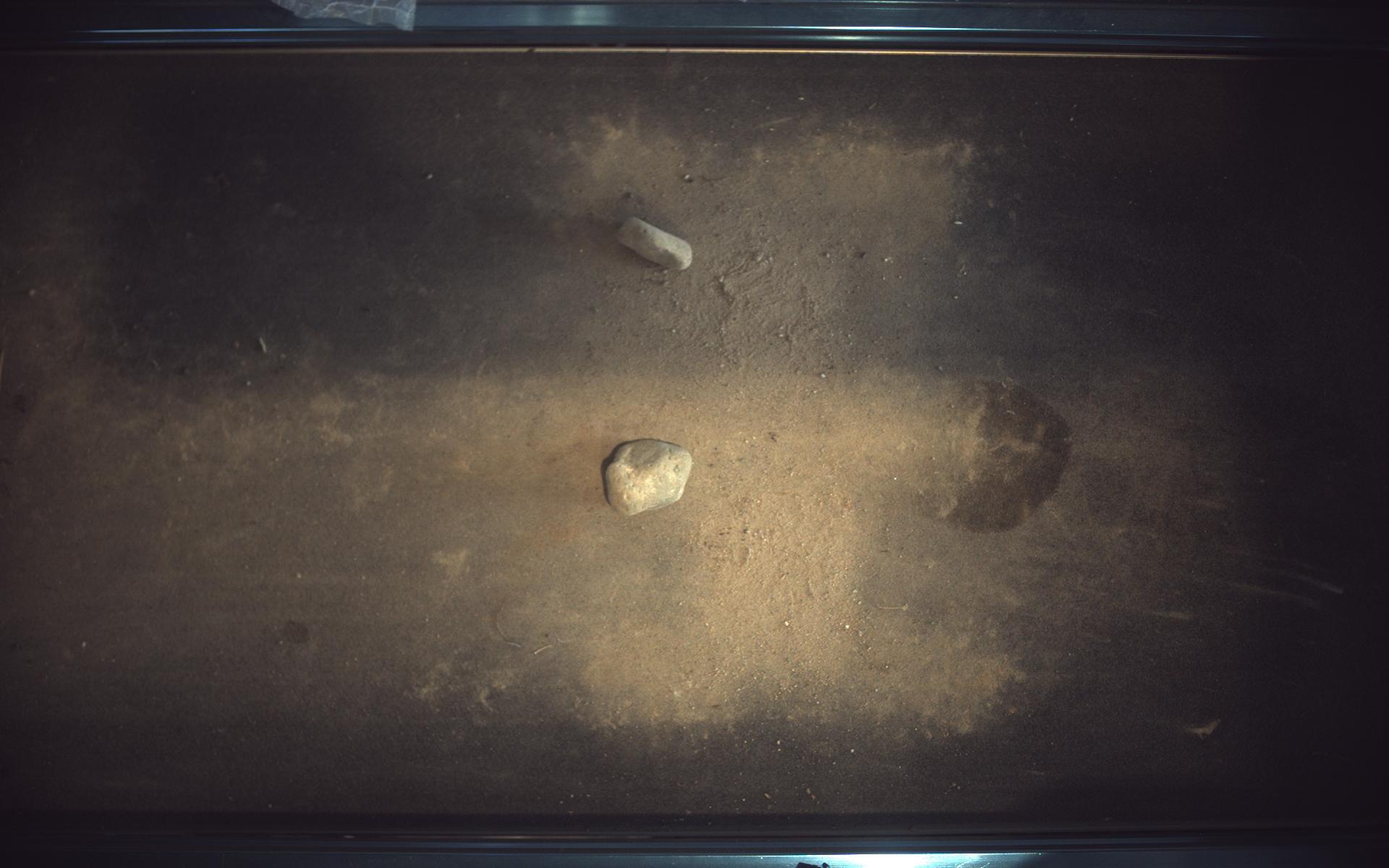stone: (605, 439, 693, 516), (618, 216, 693, 270)
